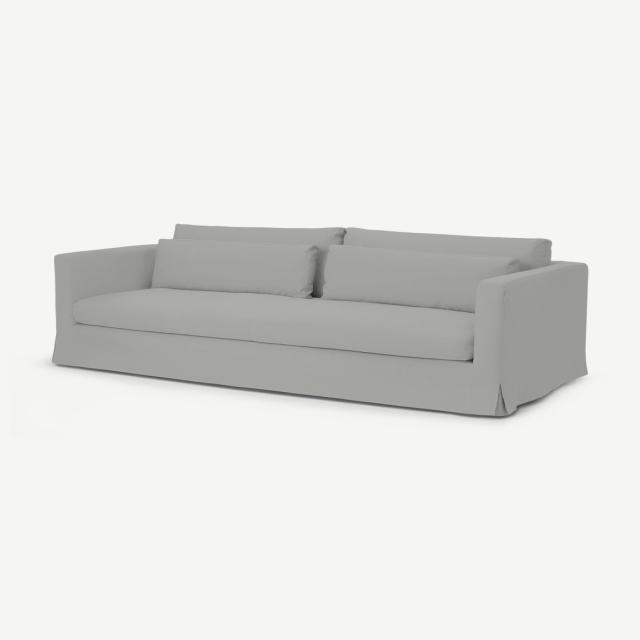Soffa: (51, 219, 590, 421)
